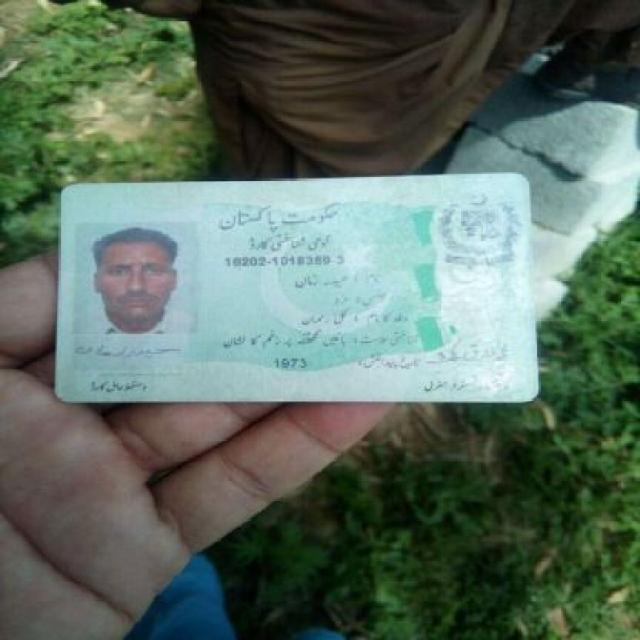Front: (54, 178, 543, 404)
